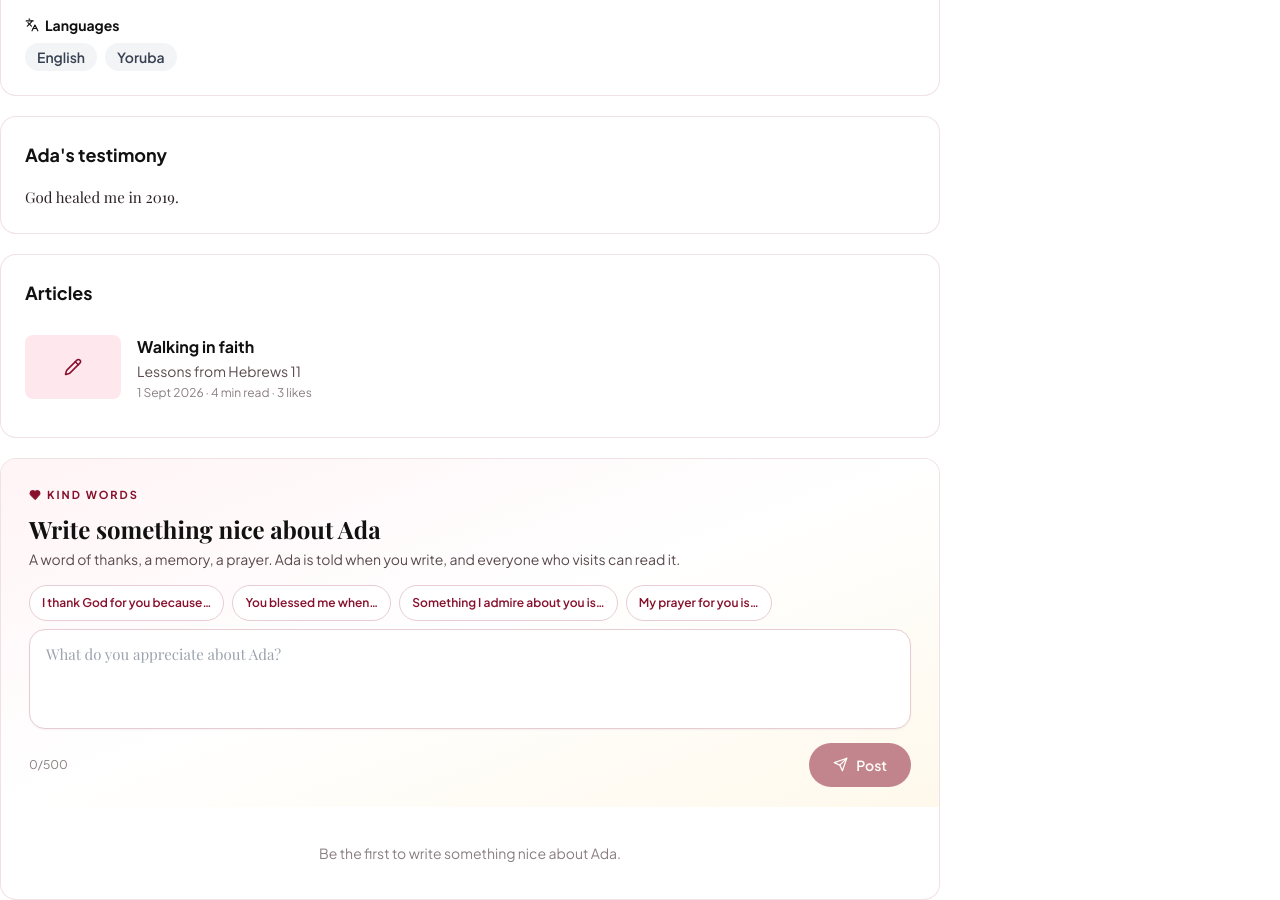
it: a member's profile › offers ways to begin writing something nice
(page scrolled)
Expected: the heading "Write something nice about Ada" is shown, [29,513,381,545]
What coordinates should you click on to do the following:
click the button "I thank God for you because…"
I would click on:
 (127, 603)
Its box is [29,585,224,621].
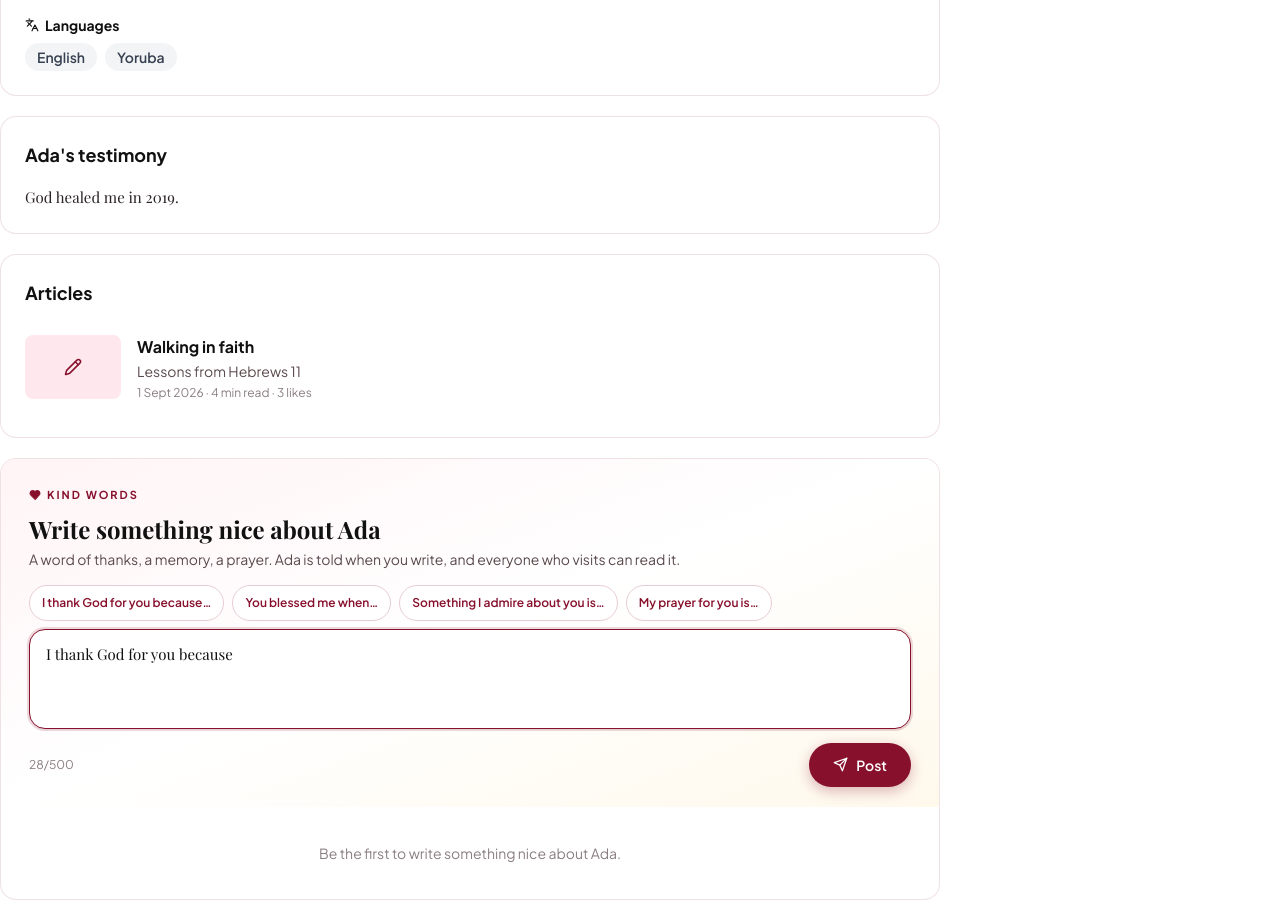
Expected: the text box named "Write something nice about Ada" holds "I thank God for you because ", [29,629,911,728]
